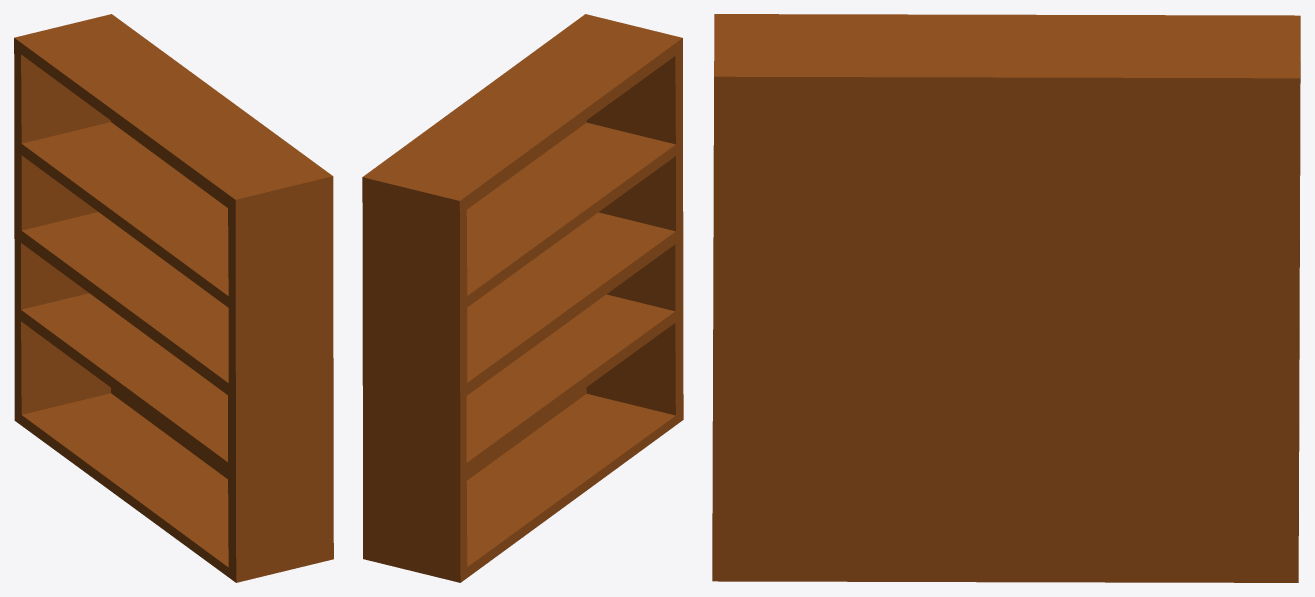
Rendered from Librero.fbx.
3 views of the same model, side by side, from view 1: azimuth 30°, elevation 25°; view 2: azimuth 150°, elevation 25°; view 3: azimuth 270°, elevation 25° (orthographic). The views are drawn at different scales.
Visible parts, largest first — view 1: Cube.028; view 2: Cube.028; view 3: Cube.028.
Part boxes in pixels (x1,y1,x2,y2): Cube.028: (14, 14, 333, 582); Cube.028: (362, 14, 683, 582); Cube.028: (712, 14, 1300, 582).
Size of the model in its own units: 0.3817 by 1.42 by 1.5.
